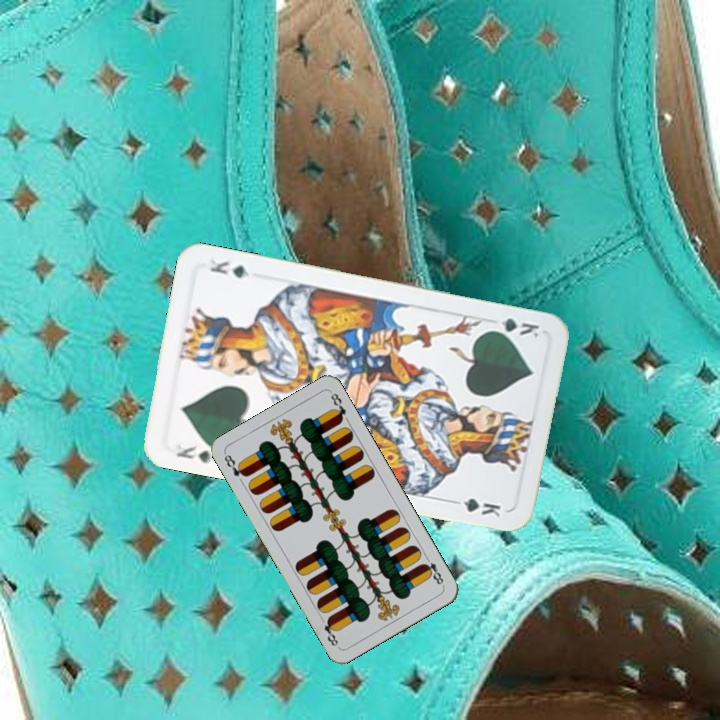E8: (419, 551, 446, 589), (220, 450, 250, 480)
GK: (484, 313, 542, 340), (171, 441, 219, 466)
